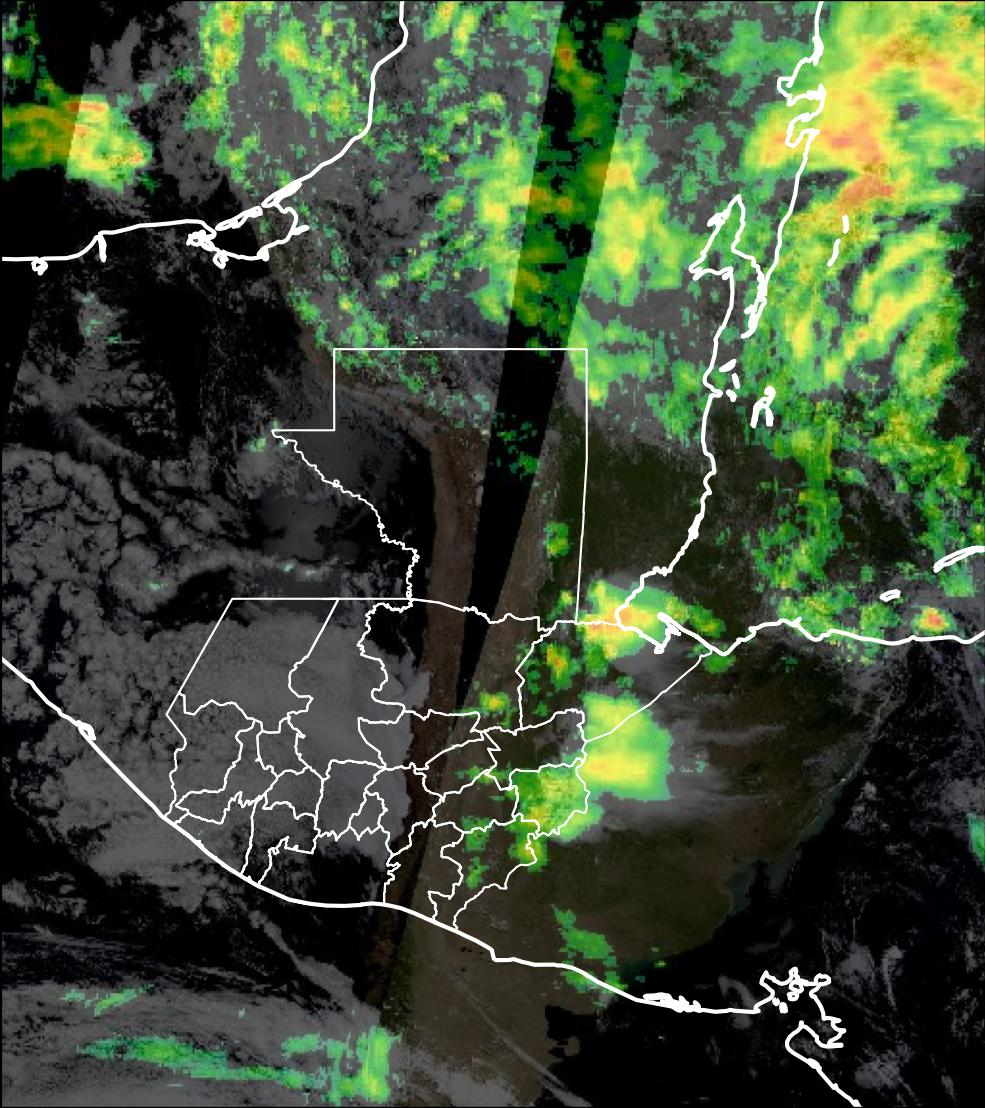precipitacion: (813, 89, 892, 217)
